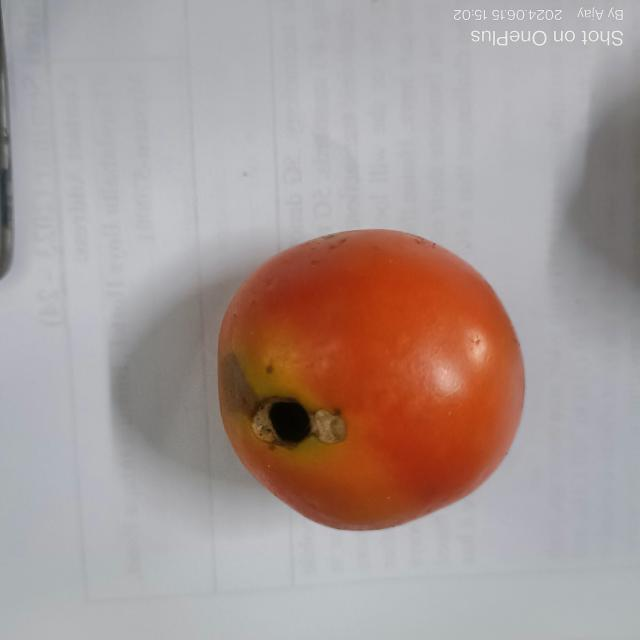fruitworm_bore: (247, 392, 343, 456)
